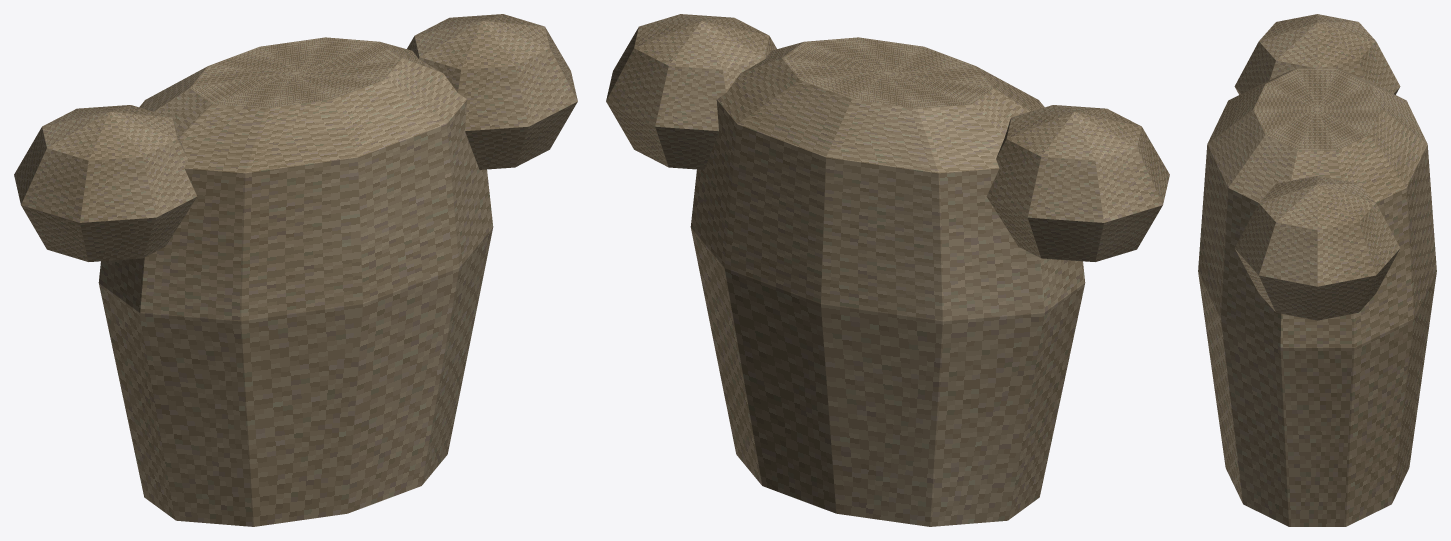
File: tunica_remendada.glb
3 views of the same model, side by side, from view 1: azimuth 30°, elevation 25°; view 2: azimuth 150°, elevation 25°; view 3: azimuth 270°, elevation 25° (orthographic). The views are drawn at different scales.
Parts seen in each view (by area): view 1: tunica_remendada; view 2: tunica_remendada; view 3: tunica_remendada.
Part boxes in pixels (left/top/right/bottom): tunica_remendada: left=14, top=14, right=577, bottom=526; tunica_remendada: left=606, top=14, right=1169, bottom=526; tunica_remendada: left=1198, top=14, right=1436, bottom=526.
Size of the model in its own units: 0.886 by 0.6305 by 0.3744.
Materials: 1 (1 with a texture image).
